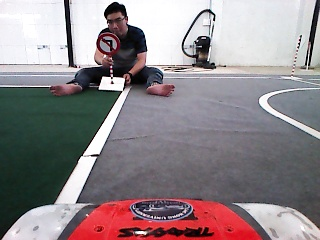ban: (96, 31, 121, 57)
